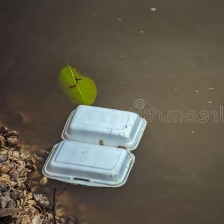foam_box: (38, 100, 150, 191)
